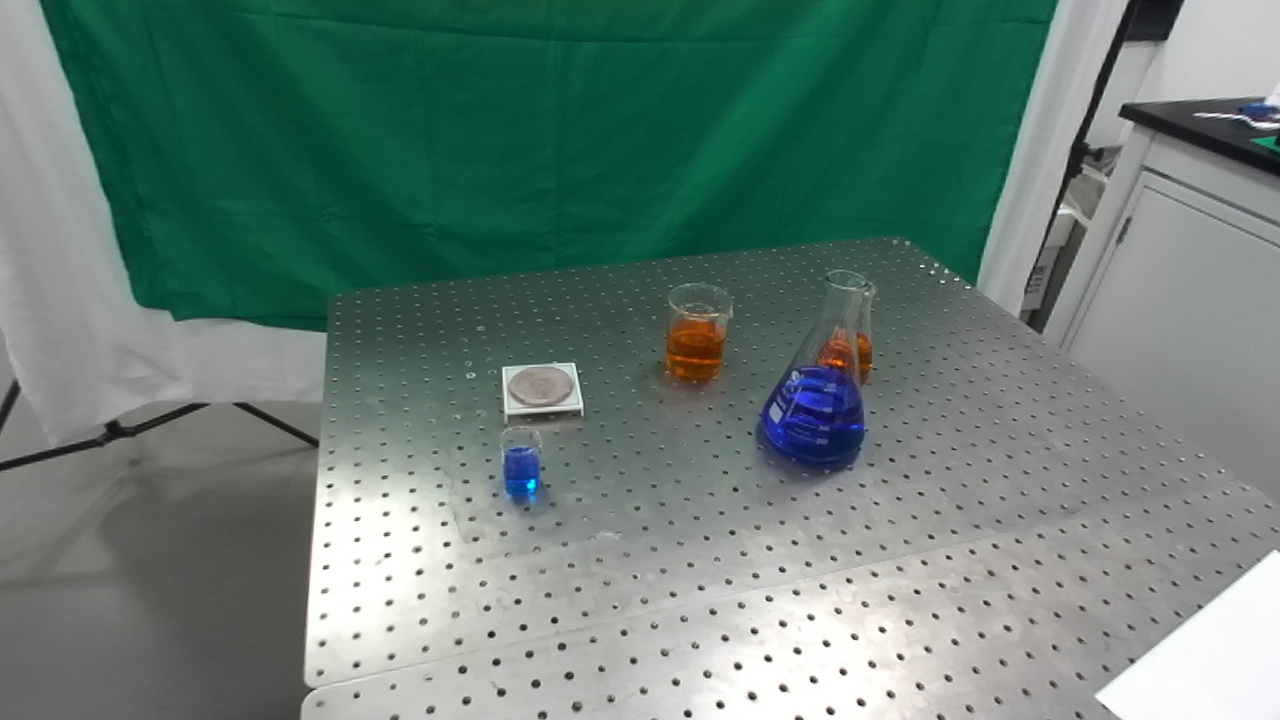glass: (759, 264, 867, 470), (665, 280, 736, 385), (823, 277, 874, 388), (497, 425, 544, 500)
plate: (496, 357, 590, 424)
